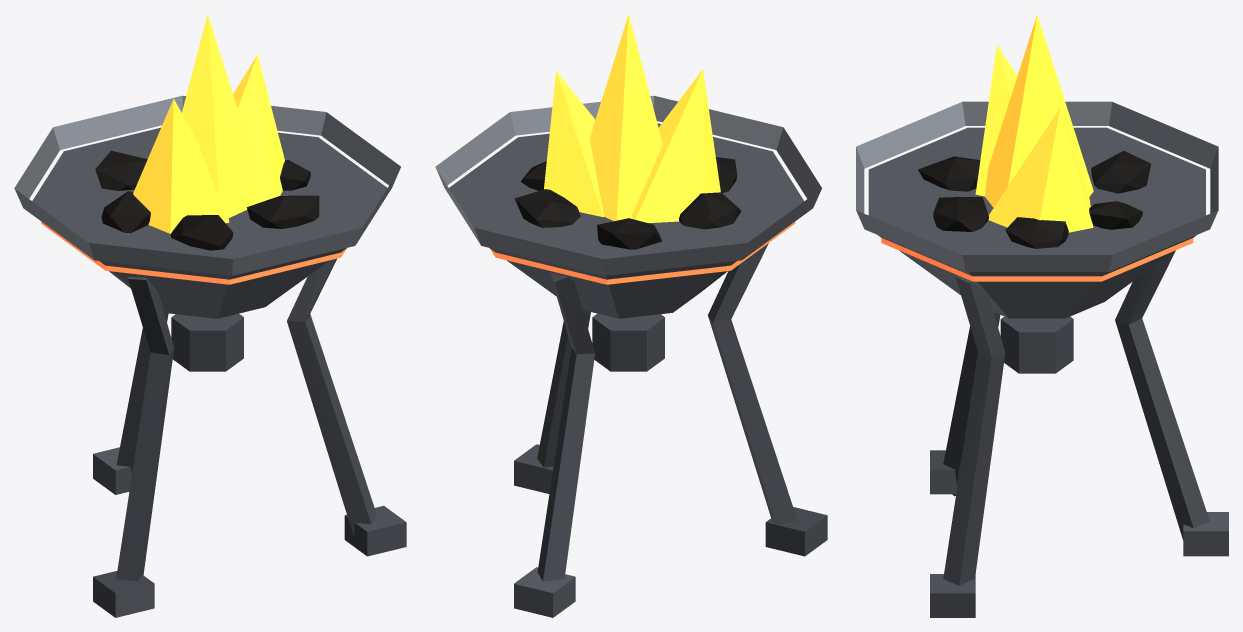
Rendered from brazier.glb.
The picture shows the model from 3 angles, left to right: view 1: azimuth 30°, elevation 25°; view 2: azimuth 150°, elevation 25°; view 3: azimuth 270°, elevation 25°; orthographic projection.
Parts seen in each view (by area): view 1: brazier; view 2: brazier; view 3: brazier.
Part boxes in pixels (x1=…): brazier: x1=14, y1=14, x2=406, y2=617; brazier: x1=435, y1=14, x2=827, y2=617; brazier: x1=856, y1=14, x2=1228, y2=617.
Bounding box in the file's own units: 0.7945 × 1.3 × 0.8173.
